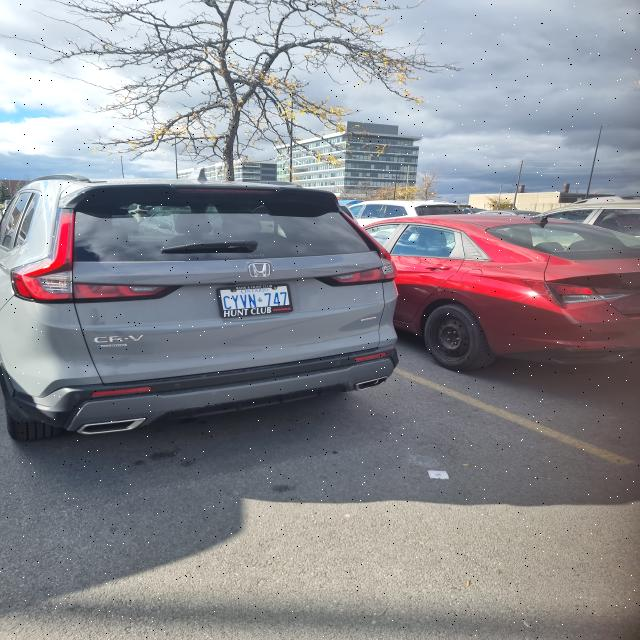plaque: (218, 285, 292, 318)
